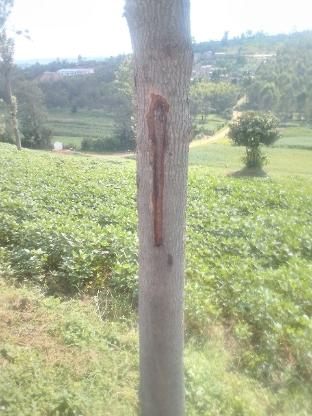tree: (116, 0, 196, 416)
